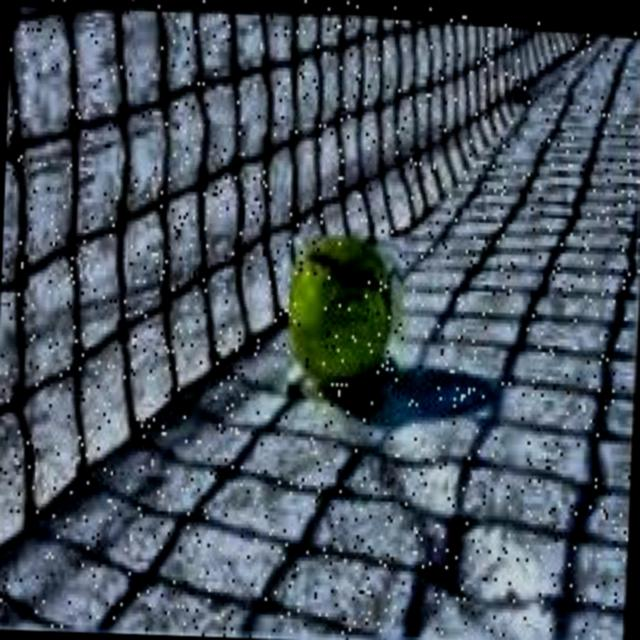tennis-ball: (282, 228, 410, 408)
